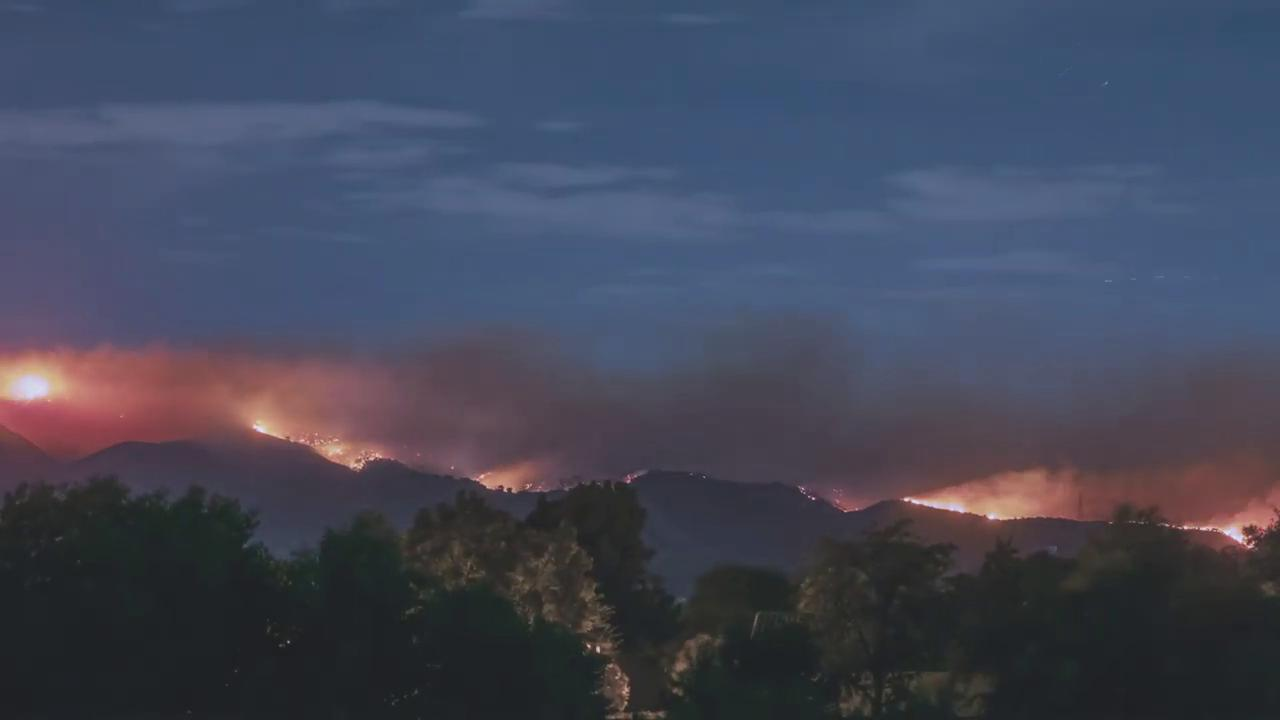Fire: (246, 419, 391, 473), (900, 488, 1041, 521), (1157, 510, 1257, 549), (475, 467, 559, 496), (4, 368, 56, 400), (622, 471, 641, 485), (834, 506, 863, 515)
